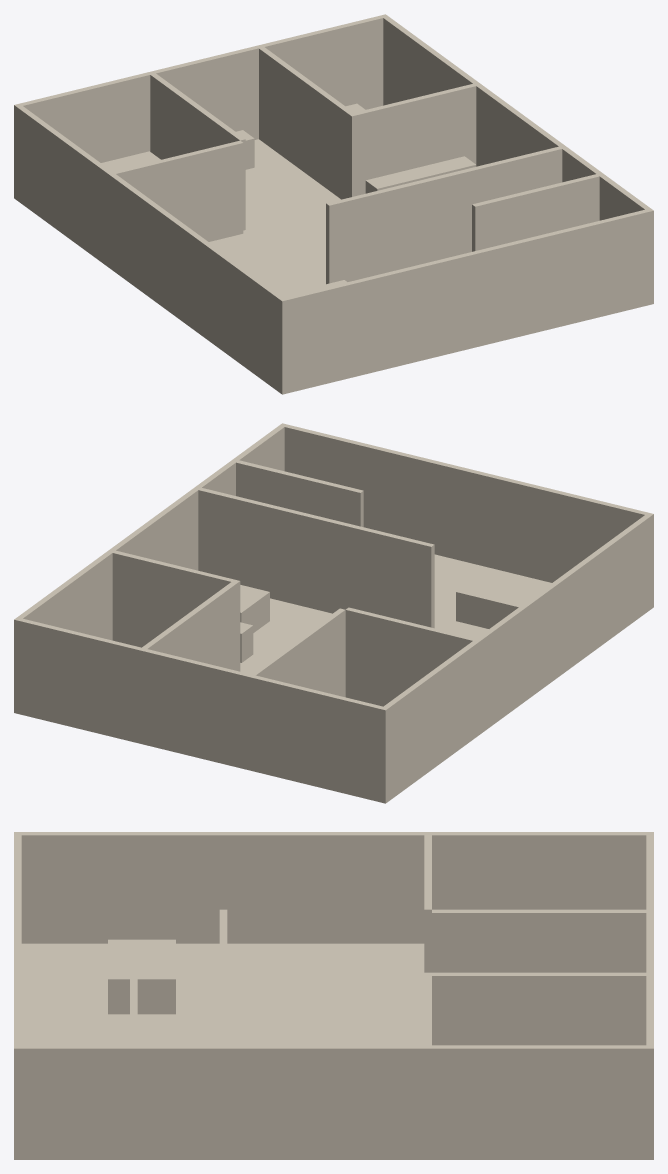
File: final-model-web.glb
3 views of the same model, one above another, from view 1: azimuth 30°, elevation 25°; view 2: azimuth 150°, elevation 25°; view 3: azimuth 270°, elevation 25° (orthographic). The views are drawn at different scales.
Parts seen in each view (by area): view 1: Approximate element 0; view 2: Approximate element 0; view 3: Approximate element 0.
Boxes of the visible parts, bbox=[...] form: Approximate element 0: bbox=[14, 14, 653, 394]; Approximate element 0: bbox=[14, 423, 653, 803]; Approximate element 0: bbox=[14, 832, 653, 1159].
Bounding box in the file's own units: 12 × 2.88 × 15.
